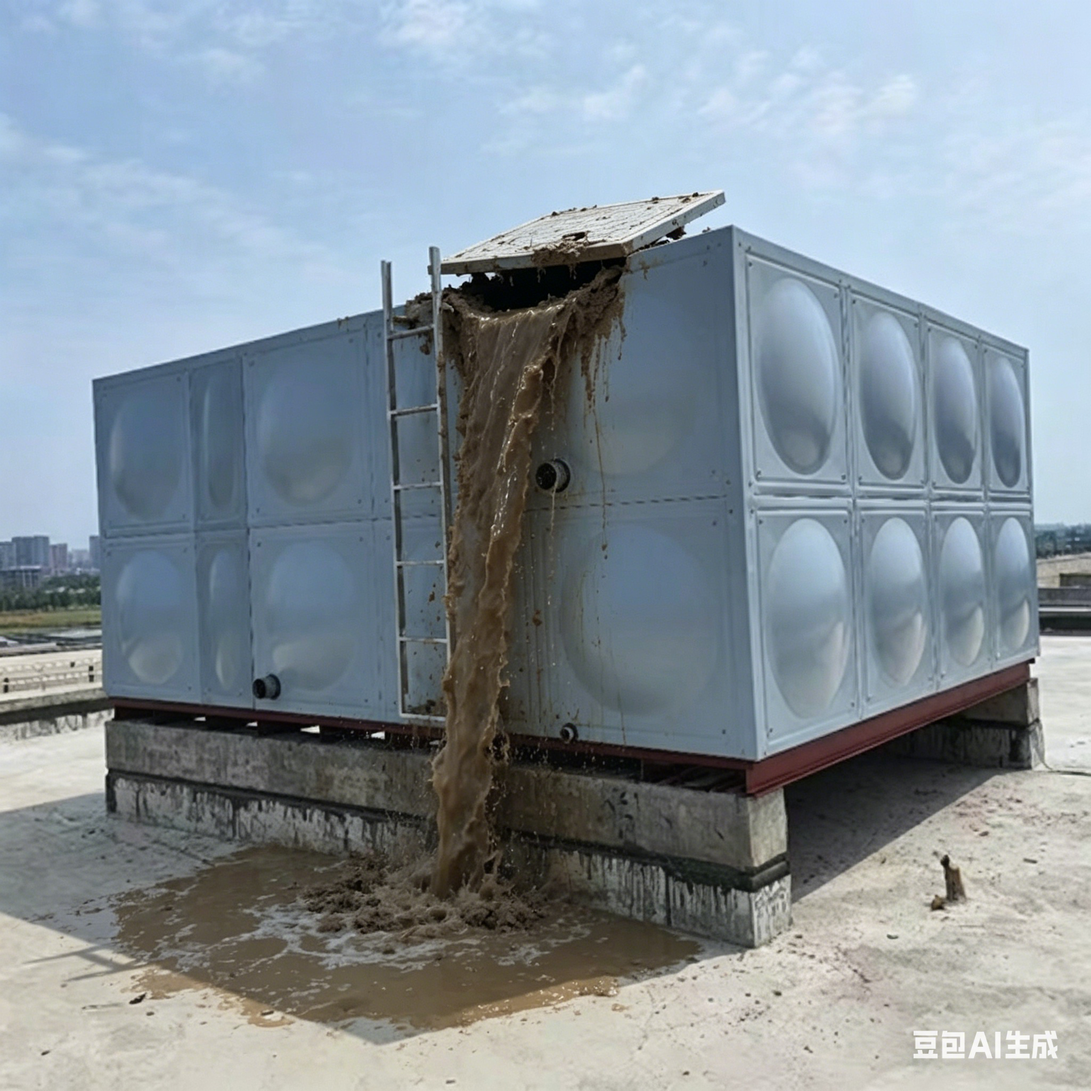Leakage: (401, 273, 640, 844), (195, 854, 686, 1021)
